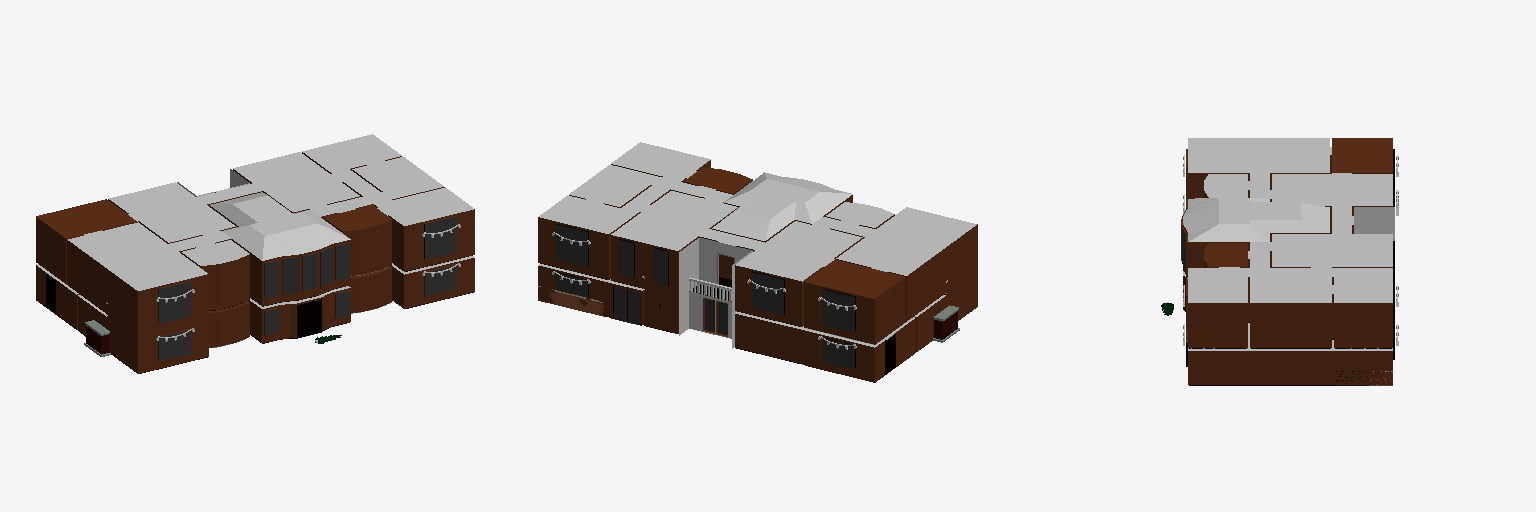
Rendered from house.obj.
3 renders of one model, left to right at view 1: azimuth 30°, elevation 25°; view 2: azimuth 150°, elevation 25°; view 3: azimuth 270°, elevation 25°, orthographic.
Parts seen in each view (by area): view 1: House_Plane, Fireplace_Cube.064; view 2: House_Plane, Fireplace_Cube.064, Counter_Cube.148; view 3: House_Plane.
Boxes of the visible parts, <box> form: House_Plane: <box>36,134,474,373</box>; Fireplace_Cube.064: <box>84,320,110,356</box>; House_Plane: <box>538,142,977,382</box>; Fireplace_Cube.064: <box>933,305,959,342</box>; Counter_Cube.148: <box>538,286,604,316</box>; House_Plane: <box>1181,138,1394,385</box>.
Size of the model in its own units: 19.54 by 5.1 by 11.57.